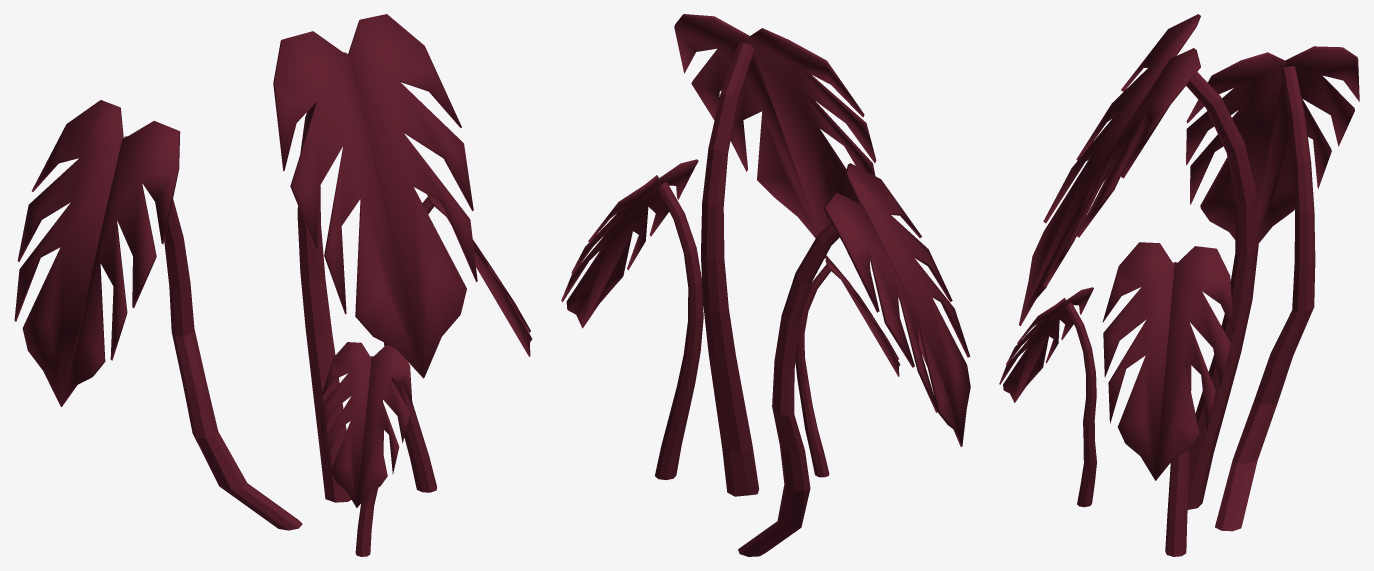
The model's file is Muerta_Me_Monstera.fbx.
3 renders of one model, left to right at view 1: azimuth 30°, elevation 25°; view 2: azimuth 150°, elevation 25°; view 3: azimuth 270°, elevation 25°, orthographic.
Parts seen in each view (by area): view 1: Monstera_Muerta_Med; view 2: Monstera_Muerta_Med; view 3: Monstera_Muerta_Med.
Part boxes in pixels (<box>): Monstera_Muerta_Med: <box>14,14,532,556</box>; Monstera_Muerta_Med: <box>561,14,970,556</box>; Monstera_Muerta_Med: <box>999,14,1359,556</box>.
Size of the model in its own units: 311 by 345 by 223.
